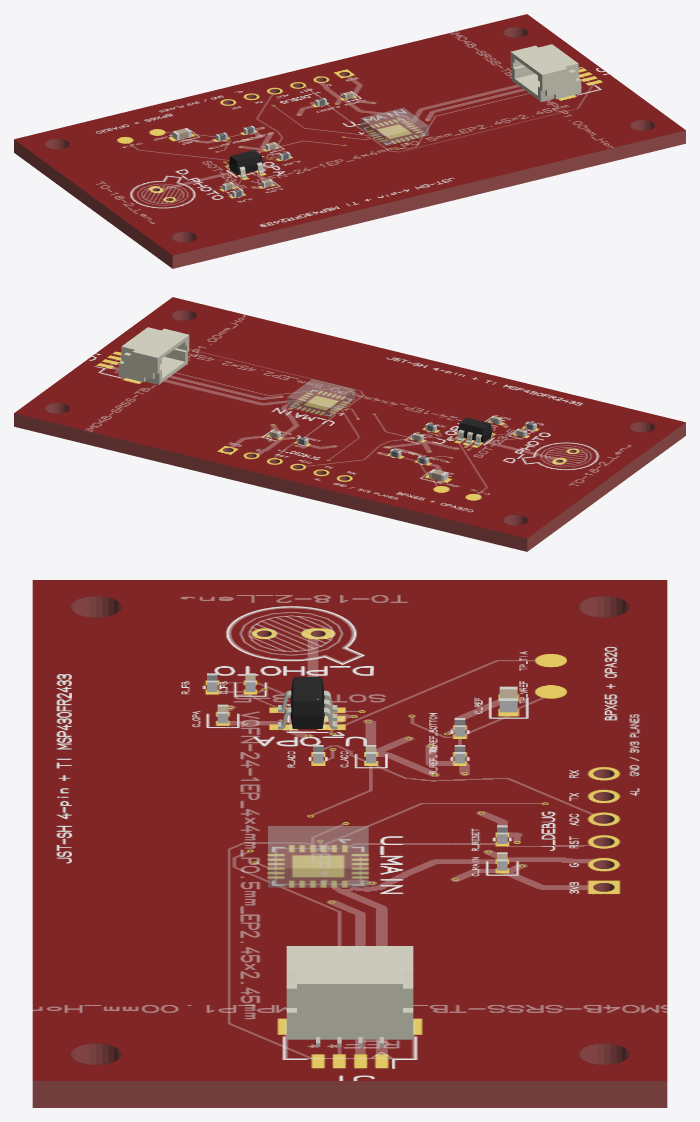
The picture shows the model from 3 angles, top to bottom: view 1: azimuth 30°, elevation 25°; view 2: azimuth 150°, elevation 25°; view 3: azimuth 270°, elevation 25°; orthographic projection. The views are drawn at different scales.
Visible parts, largest first — view 1: Box0, J1, U_MAIN, U_OPA; view 2: Box0, J1, U_MAIN, U_OPA; view 3: Box0, J1, U_MAIN, U_OPA.
Part boxes in pixels (bbox=[...]): Box0: bbox=[14, 14, 685, 268]; J1: bbox=[510, 44, 581, 101]; U_MAIN: bbox=[360, 107, 428, 145]; U_OPA: bbox=[227, 150, 264, 178]; Box0: bbox=[14, 297, 685, 551]; J1: bbox=[118, 327, 189, 384]; U_MAIN: bbox=[287, 379, 355, 417]; U_OPA: bbox=[456, 417, 493, 445]; Box0: bbox=[32, 580, 667, 1107]; J1: bbox=[286, 946, 413, 1046]; U_MAIN: bbox=[268, 826, 368, 887]; U_OPA: bbox=[278, 677, 337, 729].
Size of the model in its own units: 56 by 4.36 by 30.
11 materials, 2 textured.
